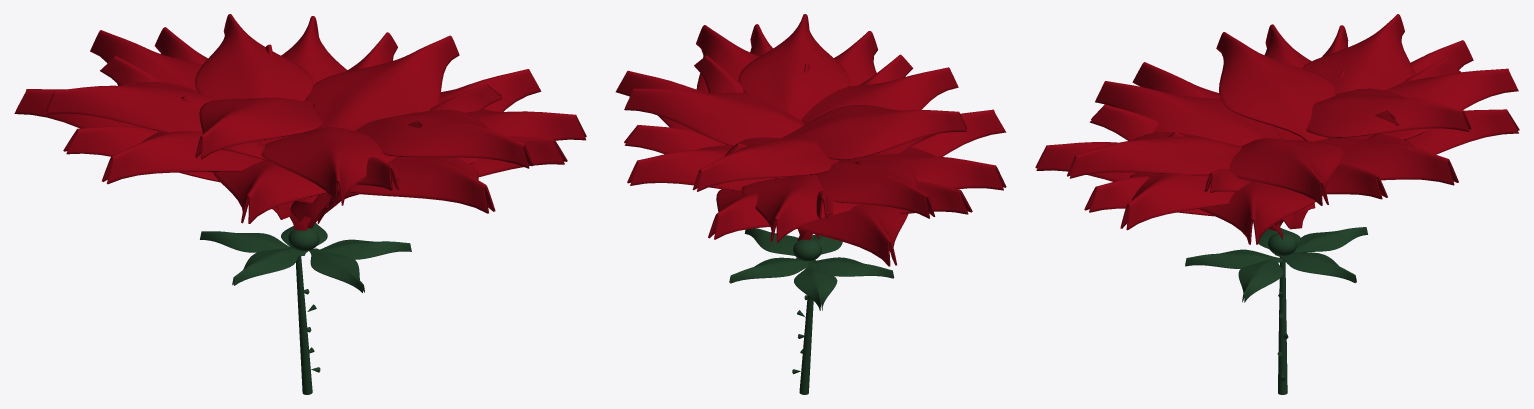
The model's file is rose.glb.
3 views of the same model, side by side, from view 1: azimuth 30°, elevation 25°; view 2: azimuth 150°, elevation 25°; view 3: azimuth 270°, elevation 25° (orthographic). The views are drawn at different scales.
Parts seen in each view (by area): view 1: Petal_27, Petal_29, Petal_30, Petal_28, Petal_26, Petal_31, Petal_23, Petal_21, Petal_18, Petal_24, Petal_25, Petal_15 (+15 smaller); view 2: Petal_27, Petal_31, Petal_29, Petal_30, Petal_28, Petal_26, Petal_25, Petal_20, Petal_23, Petal_22, Petal_17, Petal_14 (+15 smaller); view 3: Petal_31, Petal_26, Petal_30, Petal_29, Petal_27, Petal_28, Petal_22, Petal_24, Petal_25, Petal_19, Petal_17, Petal_21 (+14 smaller).
Part boxes in pixels (<box>): Petal_27: <box>306,35,459,130</box>; Petal_29: <box>355,110,533,168</box>; Petal_30: <box>195,14,313,138</box>; Petal_28: <box>45,82,213,132</box>; Petal_26: <box>261,127,397,205</box>; Petal_31: <box>195,97,322,159</box>; Petal_23: <box>102,131,278,184</box>; Petal_21: <box>337,157,495,213</box>; Petal_18: <box>213,160,326,223</box>; Petal_24: <box>456,109,586,164</box>; Petal_25: <box>90,30,202,90</box>; Petal_15: <box>63,126,219,182</box>; Petal_27: <box>624,88,803,146</box>; Petal_31: <box>781,105,967,160</box>; Petal_29: <box>738,14,849,119</box>; Petal_30: <box>692,137,839,191</box>; Petal_28: <box>815,160,935,218</box>; Petal_26: <box>801,67,958,125</box>; Petal_25: <box>741,174,866,242</box>; Petal_20: <box>797,204,908,266</box>; Petal_23: <box>838,147,1006,190</box>; Petal_22: <box>627,145,774,191</box>; Petal_17: <box>708,189,769,239</box>; Petal_14: <box>624,125,726,154</box>; Petal_31: <box>1216,32,1335,141</box>; Petal_26: <box>1095,81,1282,146</box>; Petal_30: <box>1306,88,1471,138</box>; Petal_29: <box>1067,132,1241,178</box>; Petal_27: <box>1229,138,1343,205</box>; Petal_28: <box>1302,14,1415,137</box>; Petal_22: <box>1320,134,1458,185</box>; Petal_24: <box>1120,172,1234,230</box>; Petal_25: <box>1379,68,1518,139</box>; Petal_19: <box>1199,181,1322,244</box>; Petal_17: <box>1407,109,1519,154</box>; Petal_21: <box>1035,142,1136,181</box>.
Bounding box in the file's own units: 1.73 × 1.22 × 1.79.
